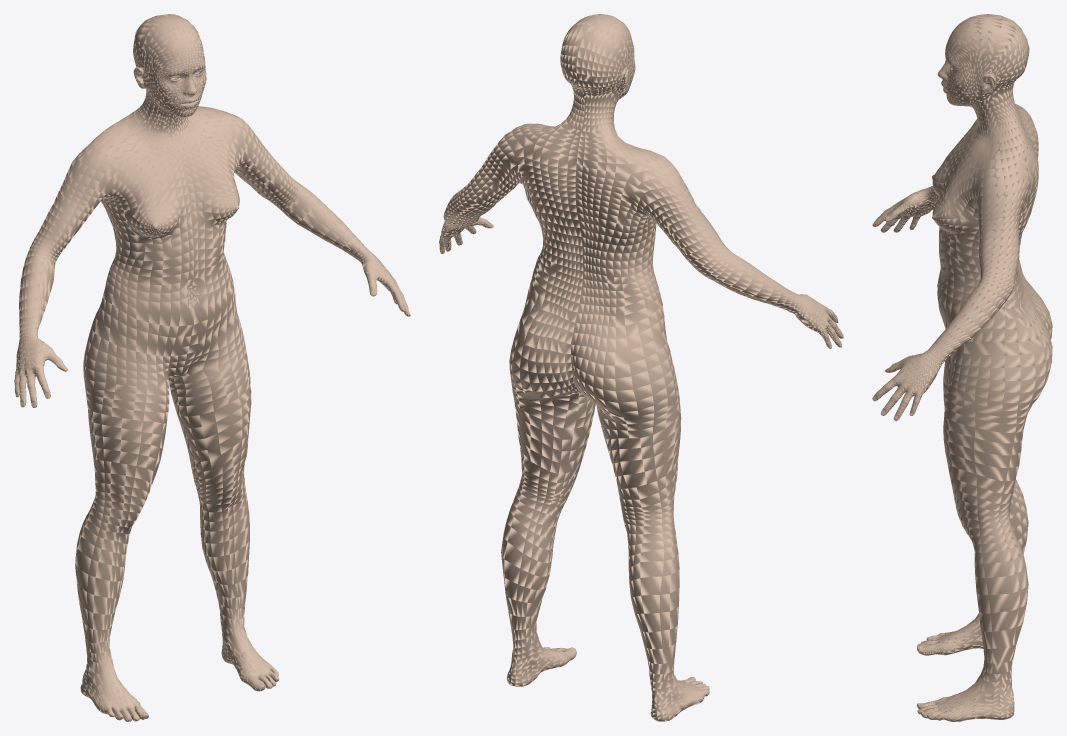
The model's file is female_high_medium.glb.
3 renders of one model, left to right at view 1: azimuth 30°, elevation 25°; view 2: azimuth 150°, elevation 25°; view 3: azimuth 270°, elevation 25°, orthographic. The views are drawn at different scales.
Visible parts, largest first — view 1: female_high_mediumMesh; view 2: female_high_mediumMesh; view 3: female_high_mediumMesh.
Part boxes in pixels (x1,y1,x2,y2): female_high_mediumMesh: (14,14,410,721); female_high_mediumMesh: (439,14,843,721); female_high_mediumMesh: (872,14,1052,721).
Bounding box in the file's own units: 9.81 × 16.06 × 3.94.
